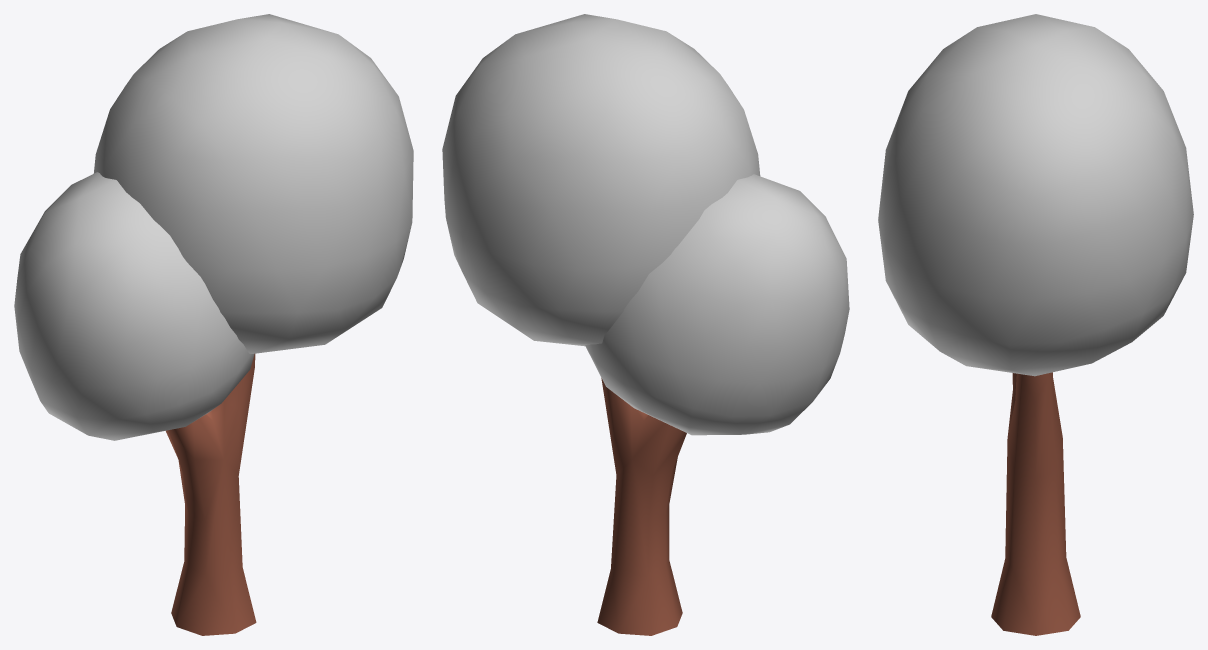
The model's file is detail_treeB.fbx.
The picture shows the model from 3 angles, left to right: view 1: azimuth 30°, elevation 25°; view 2: azimuth 150°, elevation 25°; view 3: azimuth 270°, elevation 25°; orthographic projection. The views are drawn at different scales.
Visible parts, largest first — view 1: detail_treeB; view 2: detail_treeB; view 3: detail_treeB.
Boxes of the visible parts, x1=… form: detail_treeB: x1=14, y1=14, x2=413, y2=635; detail_treeB: x1=442, y1=14, x2=849, y2=635; detail_treeB: x1=878, y1=14, x2=1193, y2=635.
Size of the model in its own units: 48.67 by 72.68 by 34.39.
